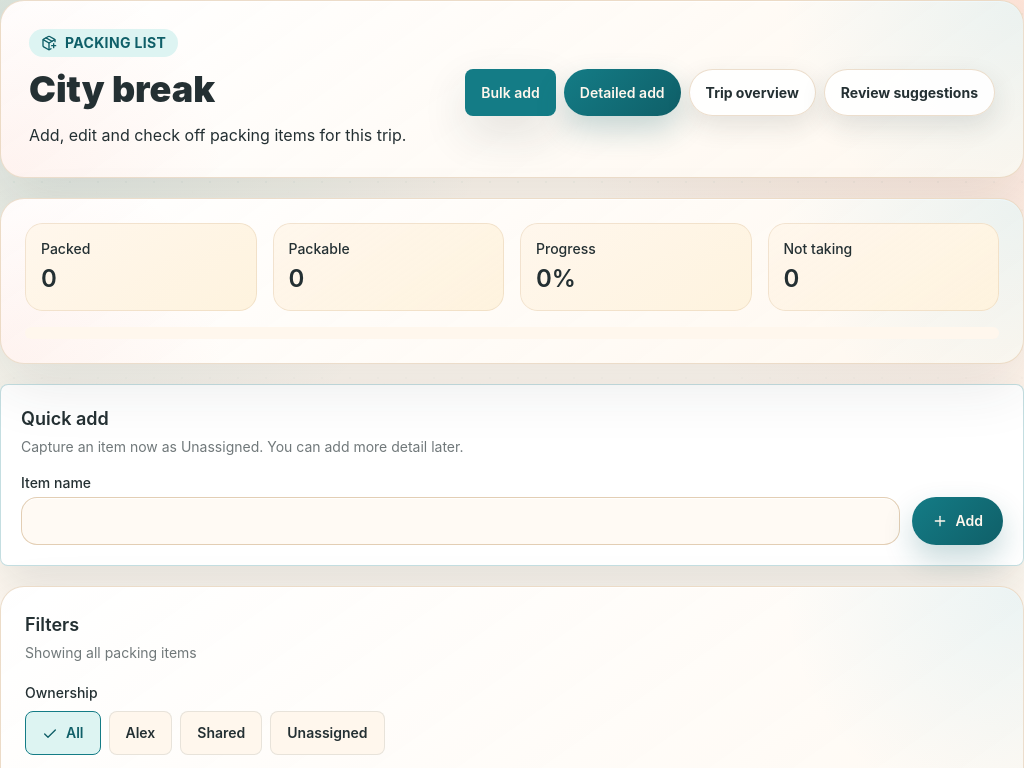
Test: PackingListScreen › opens detailed add with a specific close label and focuses the form
The image size is (1024, 768).
Click the button "Detailed add". click: (622, 92)
box: [564, 69, 681, 116]
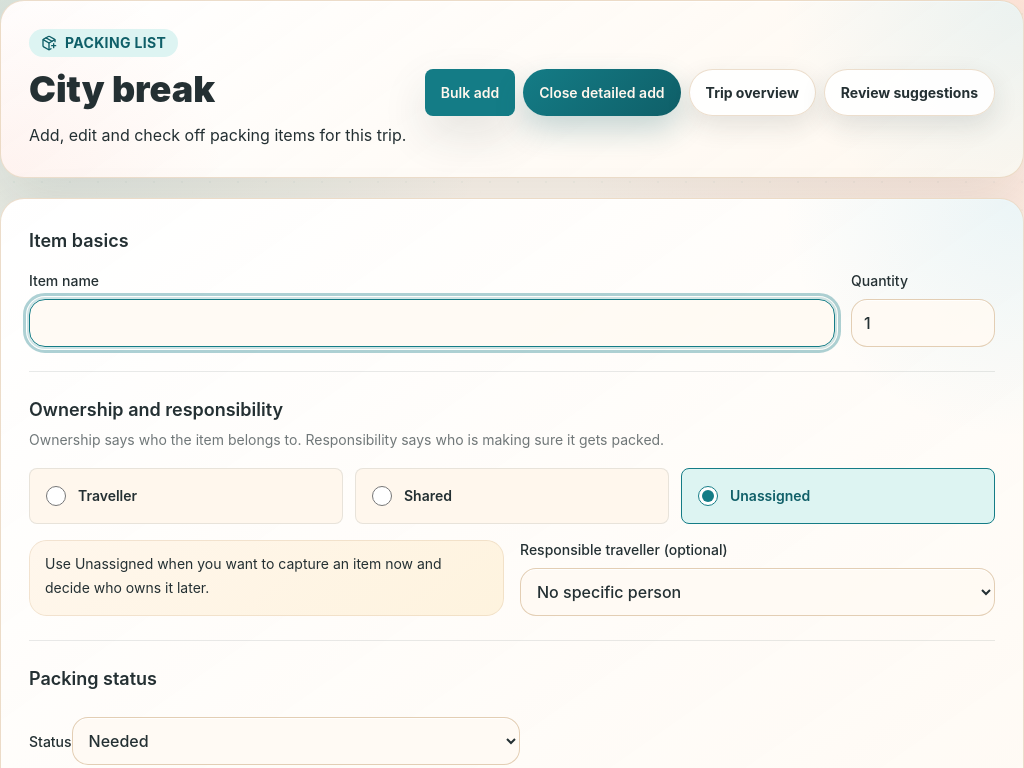
Expected: the button "Close detailed add" is shown, [523, 69, 681, 116]
